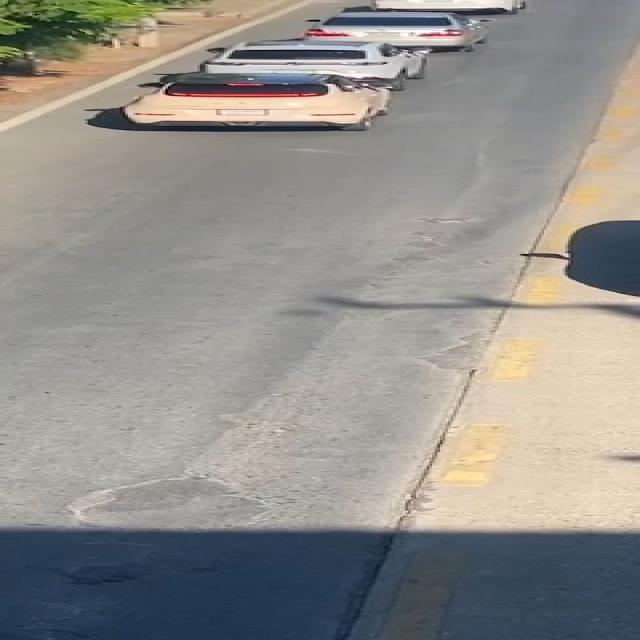car: (103, 68, 434, 139), (183, 36, 461, 83), (286, 6, 499, 51)
